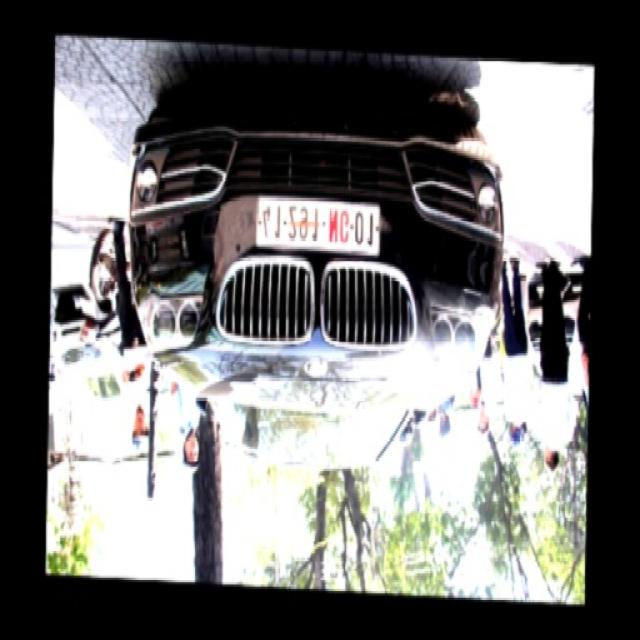bien_ngoai_giao: (252, 199, 382, 261)
